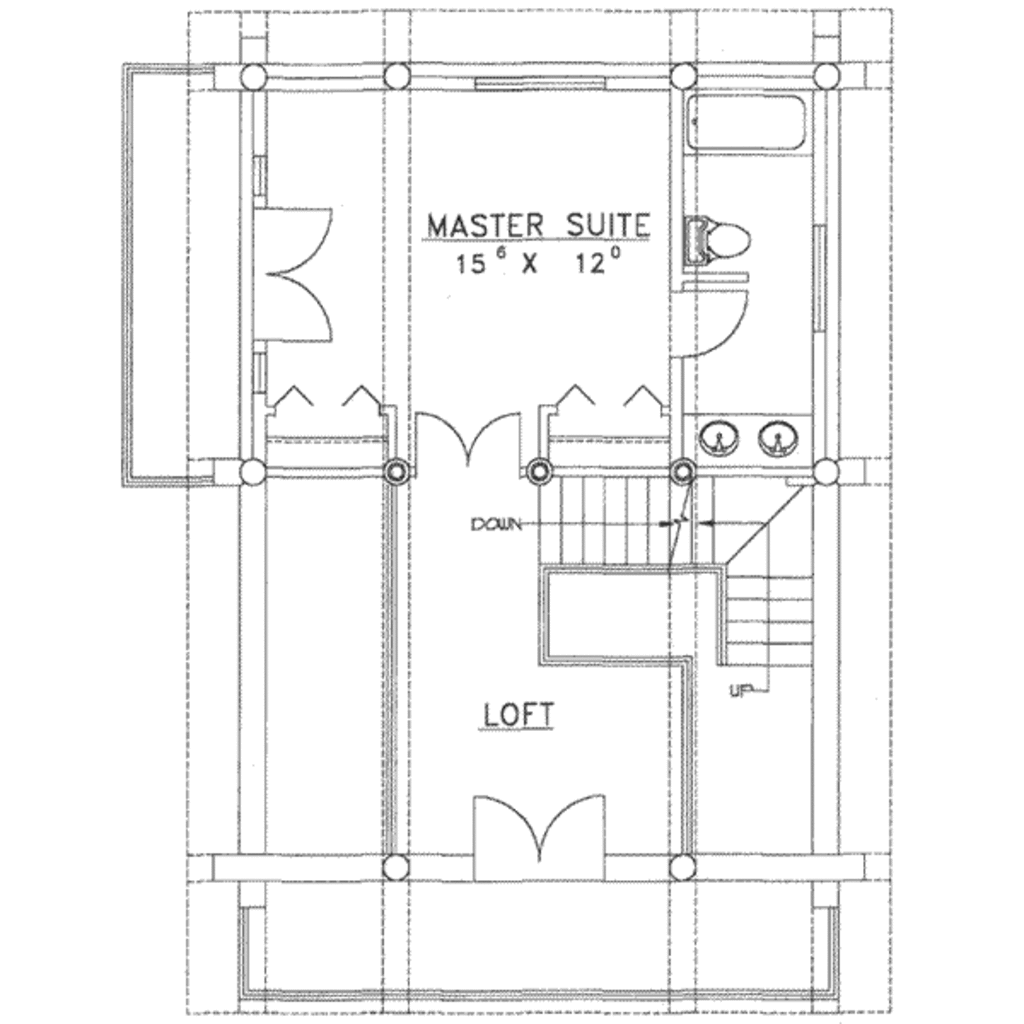door: (462, 779, 627, 892), (248, 201, 340, 343), (408, 397, 527, 479), (672, 284, 746, 365)
large_sink: (679, 200, 756, 271)
small_sink: (691, 414, 811, 466)
stairs: (529, 474, 825, 679)
tub: (675, 85, 813, 154)
window: (472, 66, 621, 101), (805, 225, 833, 346)
